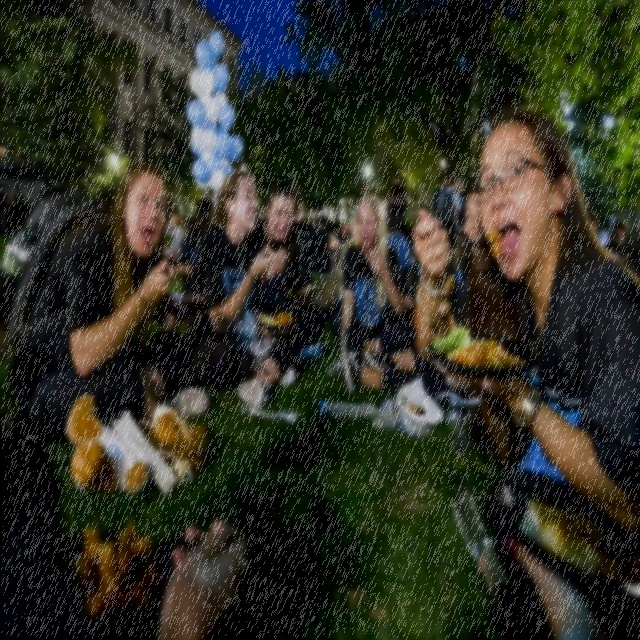pessoa: (408, 104, 640, 639), (0, 407, 258, 637), (0, 157, 193, 461), (340, 184, 484, 404), (185, 168, 308, 410), (328, 191, 418, 370), (244, 179, 330, 362), (288, 182, 343, 298), (175, 196, 219, 297), (586, 209, 640, 278), (315, 208, 358, 266), (436, 176, 462, 258), (162, 208, 190, 275), (389, 172, 409, 231), (432, 172, 448, 220), (456, 176, 468, 232), (0, 182, 10, 237), (36, 179, 54, 201), (354, 180, 368, 204), (12, 183, 24, 204), (468, 172, 479, 192)
